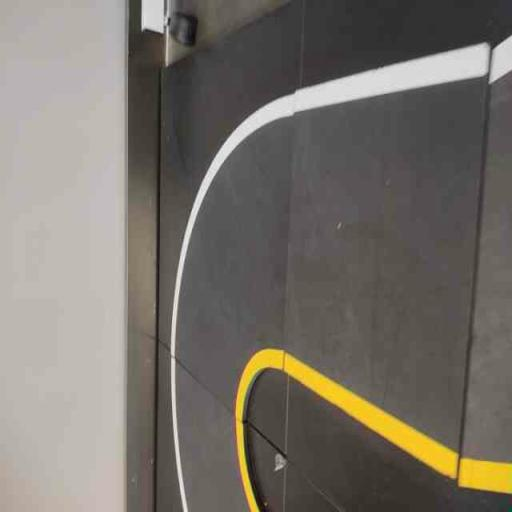left: (163, 82, 295, 454)
